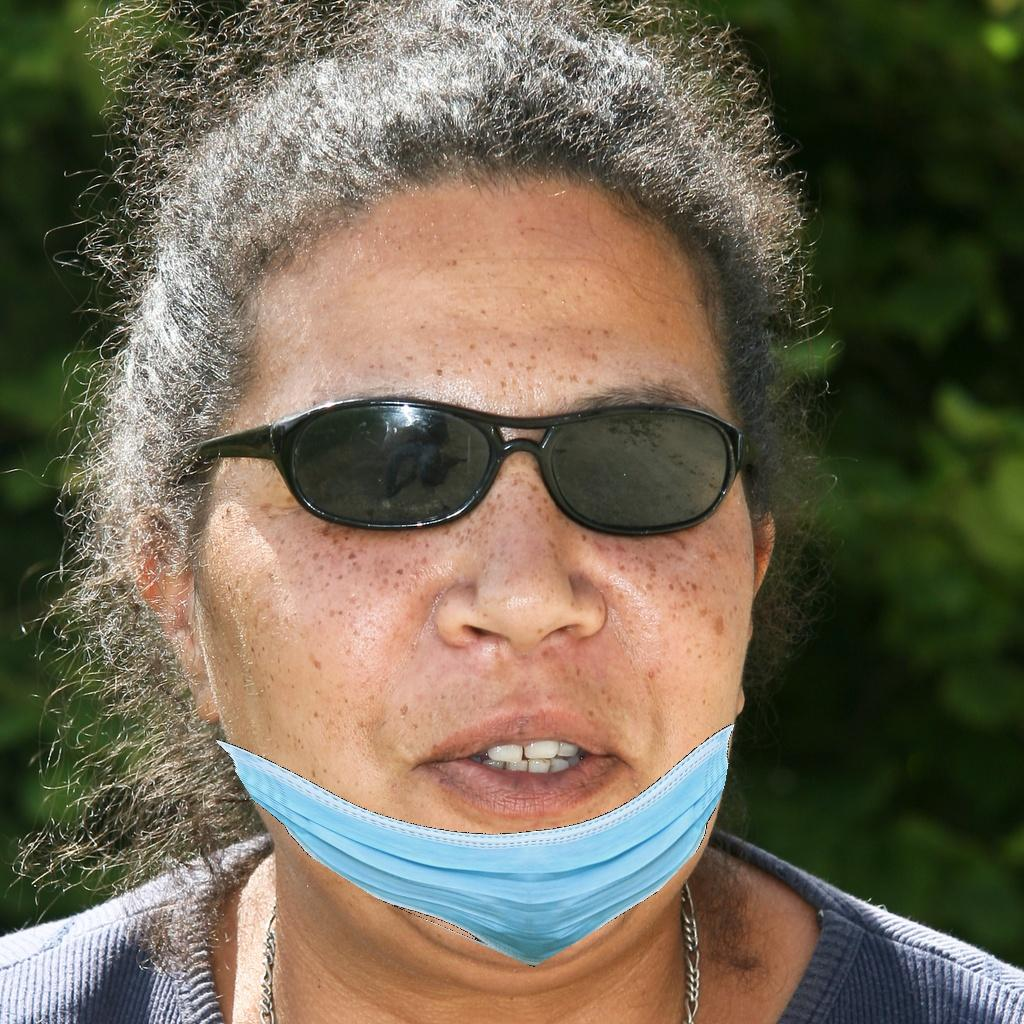Máscara Incorreta: (215, 300, 761, 955)
